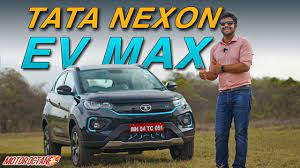Tata Nexon: (42, 62, 197, 166)
